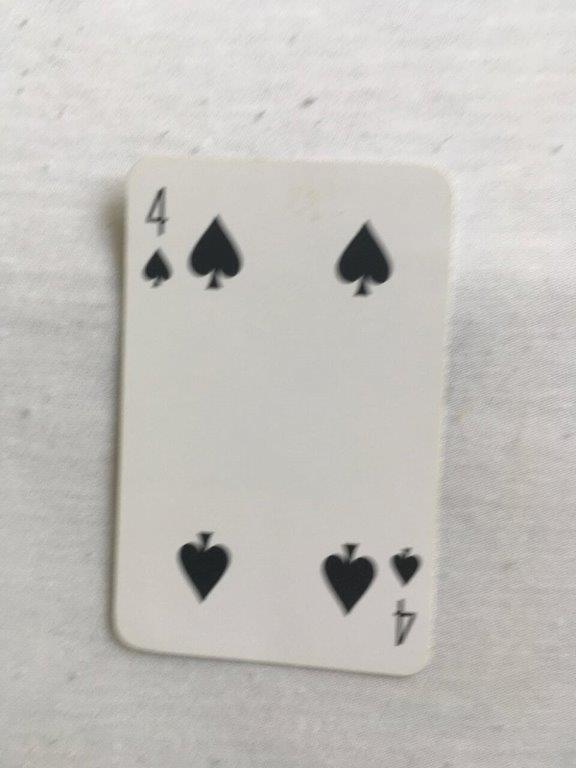4S: (112, 152, 456, 679)
